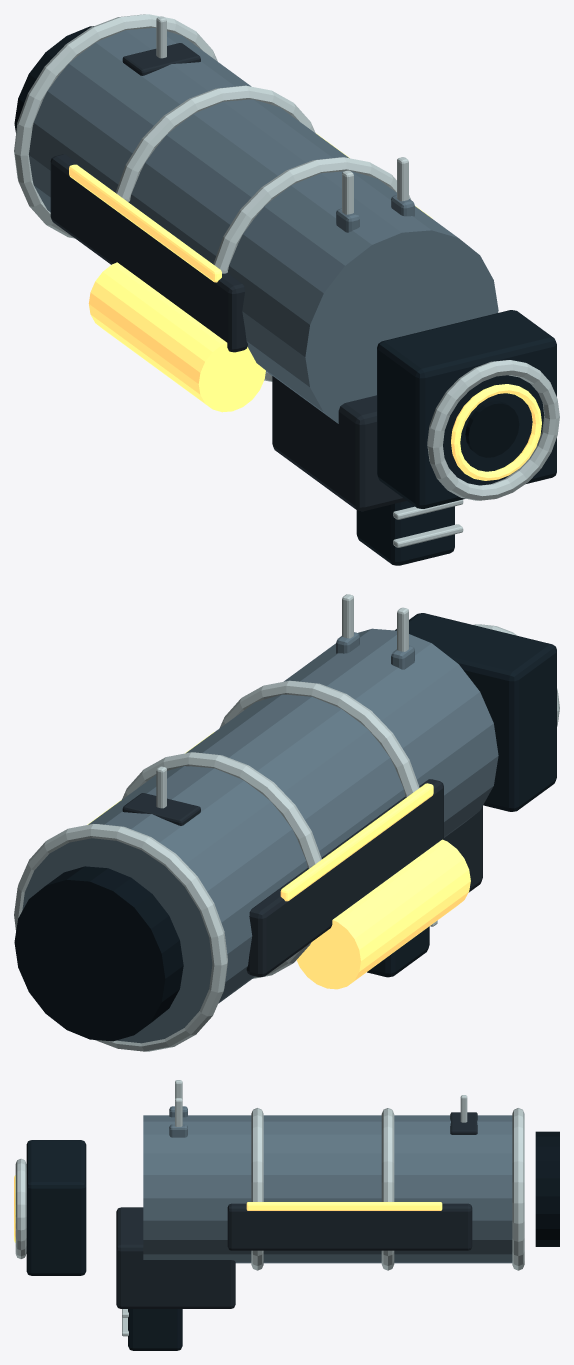
File: weapon-1.glb
3 renders of one model, top to bottom at view 1: azimuth 30°, elevation 25°; view 2: azimuth 150°, elevation 25°; view 3: azimuth 270°, elevation 25°, orthographic. The views are drawn at different scales.
Visible parts, largest first — view 1: body-light, body-rubber, body-dark, body-trim, feed-glow, body-glow, body-cavity; view 2: body-light, body-cavity, body-trim, body-rubber, body-dark, feed-glow, body-glow; view 3: body-light, body-dark, body-rubber, body-trim, body-cavity, body-glow.
Boxes of the visible parts, x1=… form: body-light: x1=29, y1=28, x2=498, y2=423; body-rubber: x1=356, y1=310, x2=556, y2=565; body-dark: x1=50, y1=43, x2=406, y2=511; body-trim: x1=14, y1=14, x2=559, y2=547; feed-glow: x1=88, y1=262, x2=265, y2=412; body-glow: x1=69, y1=133, x2=541, y2=480; body-cavity: x1=14, y1=26, x2=519, y2=457; body-light: x1=22, y1=628, x2=498, y2=1043; body-cavity: x1=14, y1=866, x2=183, y2=1041; body-trim: x1=14, y1=594, x2=559, y2=1051; body-rubber: x1=367, y1=613, x2=556, y2=977; body-dark: x1=122, y1=779, x2=482, y2=977; feed-glow: x1=296, y1=839, x2=470, y2=989; body-glow: x1=87, y1=732, x2=433, y2=901; body-light: x1=143, y1=1106, x2=512, y2=1263; body-dark: x1=116, y1=1112, x2=477, y2=1308; body-rubber: x1=26, y1=1140, x2=182, y2=1350; body-trim: x1=15, y1=1080, x2=524, y2=1336; body-cavity: x1=535, y1=1131, x2=559, y2=1246; body-glow: x1=14, y1=1175, x2=442, y2=1242.
Bounding box in the file's own units: 0.349 × 0.5045 × 1.
